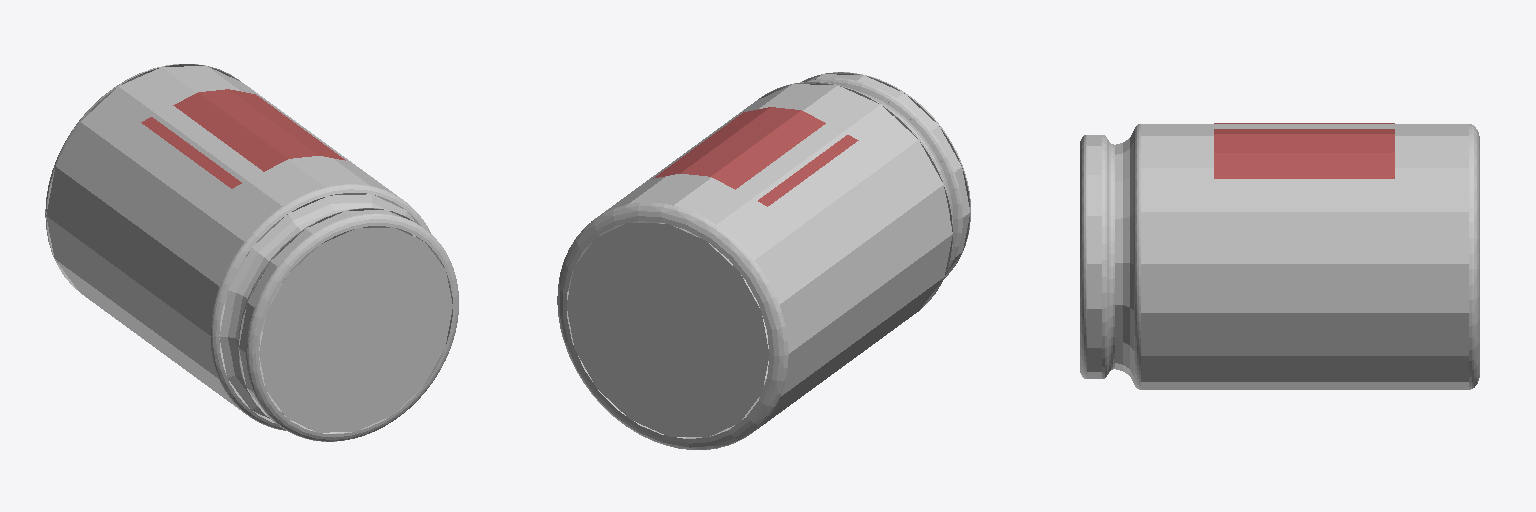
The picture shows the model from 3 angles: view 1: azimuth 30°, elevation 25°; view 2: azimuth 150°, elevation 25°; view 3: azimuth 270°, elevation 25°; orthographic projection.
Parts seen in each view (by area): view 1: ShapeIndexedFaceSet_ShapeIndexedFaceSet.001, ShapeIndexedFaceSet.004_ShapeIndexedFaceSet.005, ShapeIndexedFaceSet.003_ShapeIndexedFaceSet.004, ShapeIndexedFaceSet.005_ShapeIndexedFaceSet, ShapeIndexedFaceSet.001_ShapeIndexedFaceSet.002; view 2: ShapeIndexedFaceSet_ShapeIndexedFaceSet.001, ShapeIndexedFaceSet.002_ShapeIndexedFaceSet.003, ShapeIndexedFaceSet.001_ShapeIndexedFaceSet.002, ShapeIndexedFaceSet.005_ShapeIndexedFaceSet, ShapeIndexedFaceSet.003_ShapeIndexedFaceSet.004; view 3: ShapeIndexedFaceSet_ShapeIndexedFaceSet.001, ShapeIndexedFaceSet.003_ShapeIndexedFaceSet.004, ShapeIndexedFaceSet.005_ShapeIndexedFaceSet, ShapeIndexedFaceSet.001_ShapeIndexedFaceSet.002.
Part boxes in pixels (x1,y1,x2,y2): ShapeIndexedFaceSet_ShapeIndexedFaceSet.001: (46,66,420,422); ShapeIndexedFaceSet.004_ShapeIndexedFaceSet.005: (259,227,452,432); ShapeIndexedFaceSet.003_ShapeIndexedFaceSet.004: (211,184,458,441); ShapeIndexedFaceSet.005_ShapeIndexedFaceSet: (141,89,345,188); ShapeIndexedFaceSet.001_ShapeIndexedFaceSet.002: (45,64,240,289); ShapeIndexedFaceSet_ShapeIndexedFaceSet.001: (567,84,952,438); ShapeIndexedFaceSet.002_ShapeIndexedFaceSet.003: (566,223,769,437); ShapeIndexedFaceSet.001_ShapeIndexedFaceSet.002: (557,203,788,449); ShapeIndexedFaceSet.005_ShapeIndexedFaceSet: (653,107,858,206); ShapeIndexedFaceSet.003_ShapeIndexedFaceSet.004: (758,72,970,309); ShapeIndexedFaceSet_ShapeIndexedFaceSet.001: (1141,124,1468,389); ShapeIndexedFaceSet.003_ShapeIndexedFaceSet.004: (1080,124,1140,389); ShapeIndexedFaceSet.005_ShapeIndexedFaceSet: (1214,123,1394,178); ShapeIndexedFaceSet.001_ShapeIndexedFaceSet.002: (1469,124,1479,389).
Size of the model in its own units: 13.97 by 14.08 by 21.